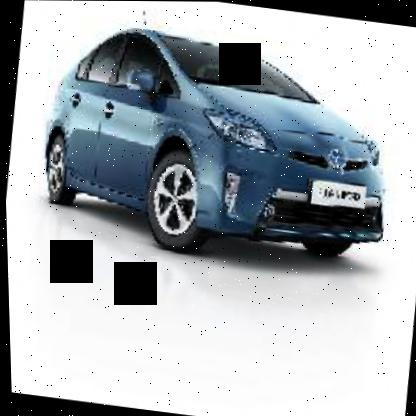not_emergency: (28, 0, 415, 276)
